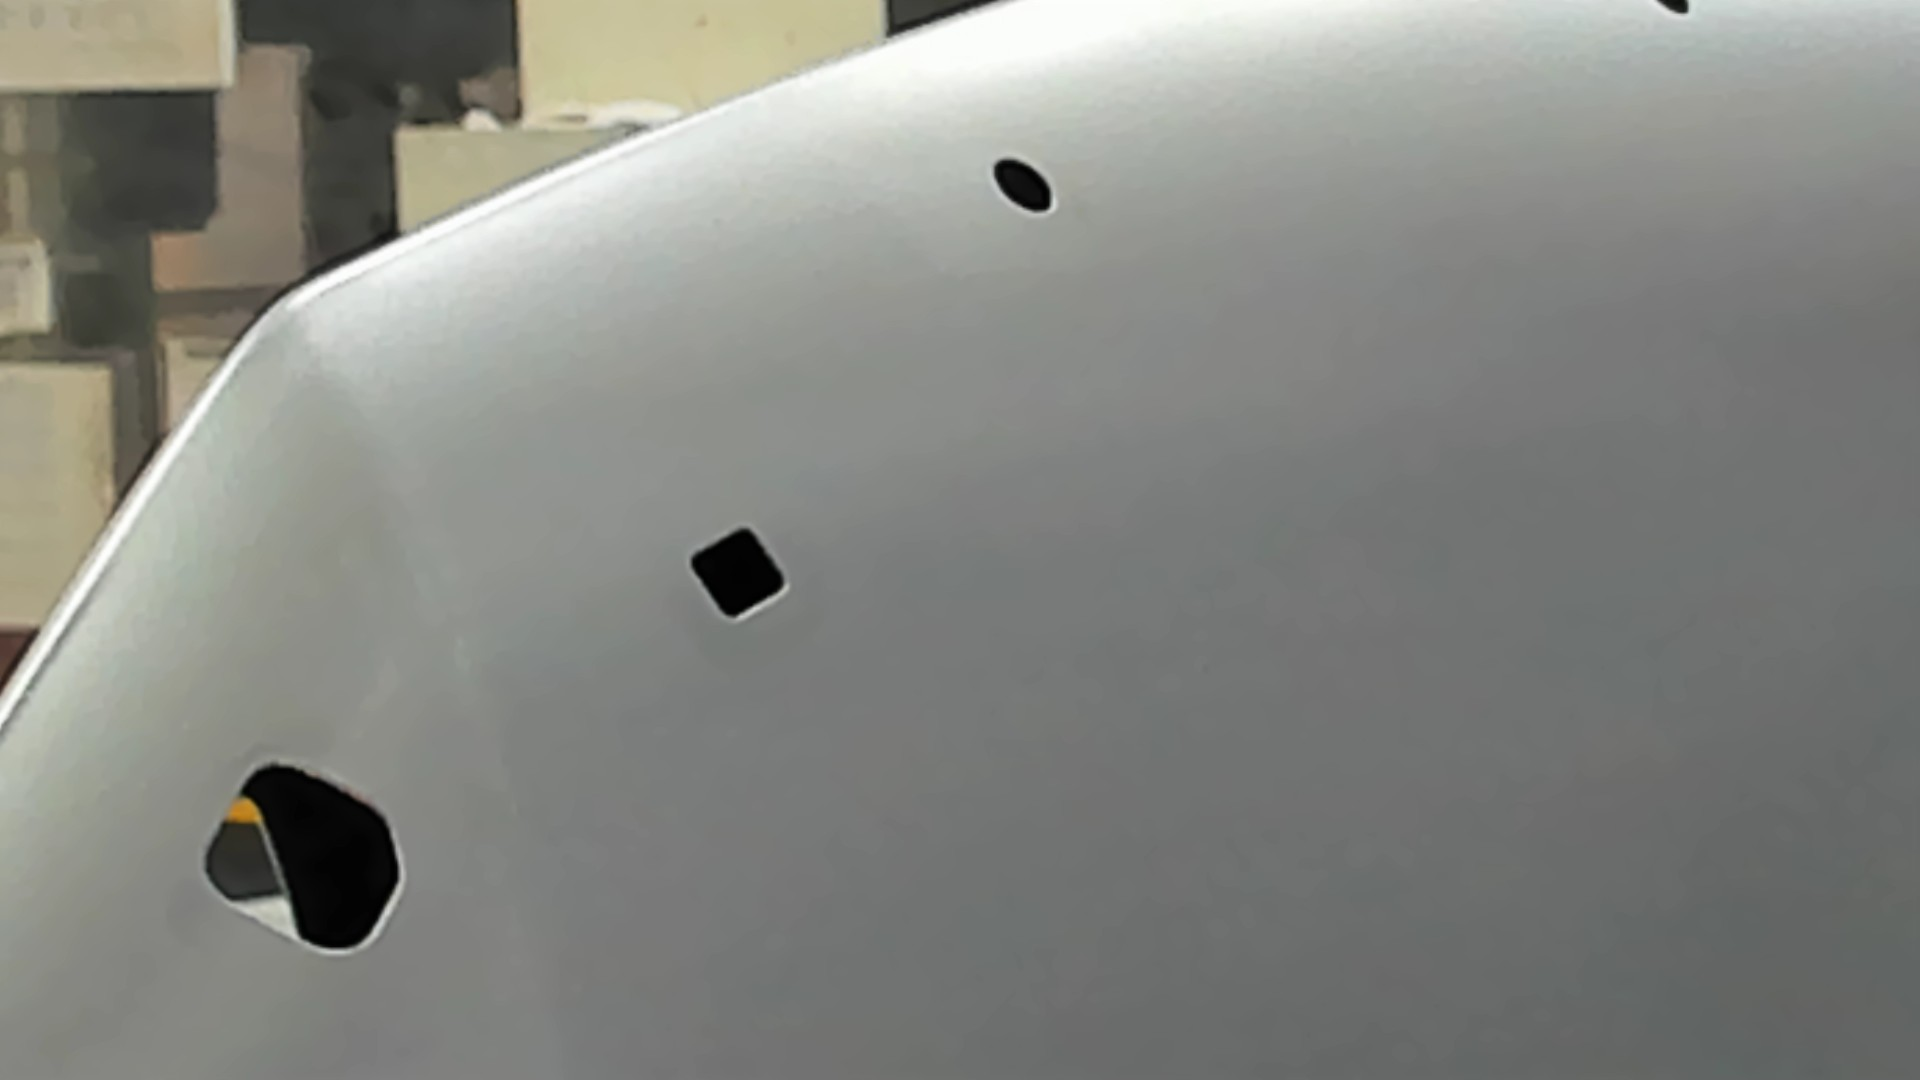chico: (989, 153, 1055, 219), (1658, 1, 1693, 15)
grande: (200, 758, 409, 960)
mediano: (688, 524, 789, 622)
